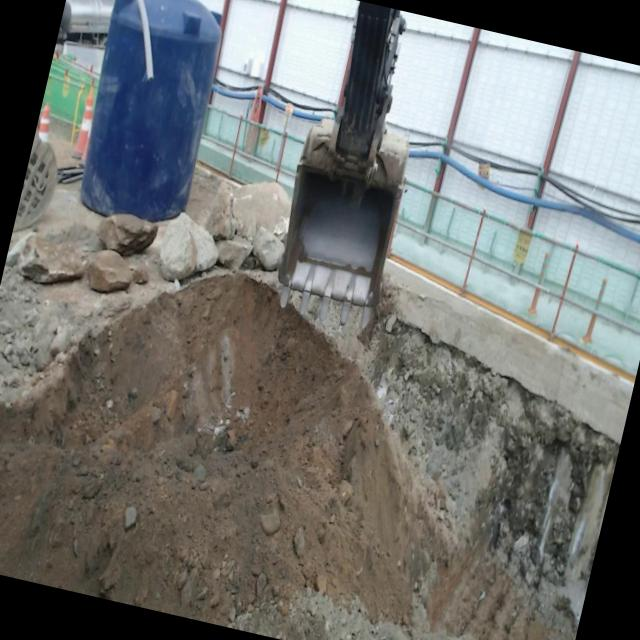stone: (196, 180, 291, 270), (159, 212, 218, 279), (17, 233, 89, 283), (98, 213, 158, 256), (84, 249, 134, 292), (216, 239, 251, 270)
white-sand: (0, 270, 619, 640)
